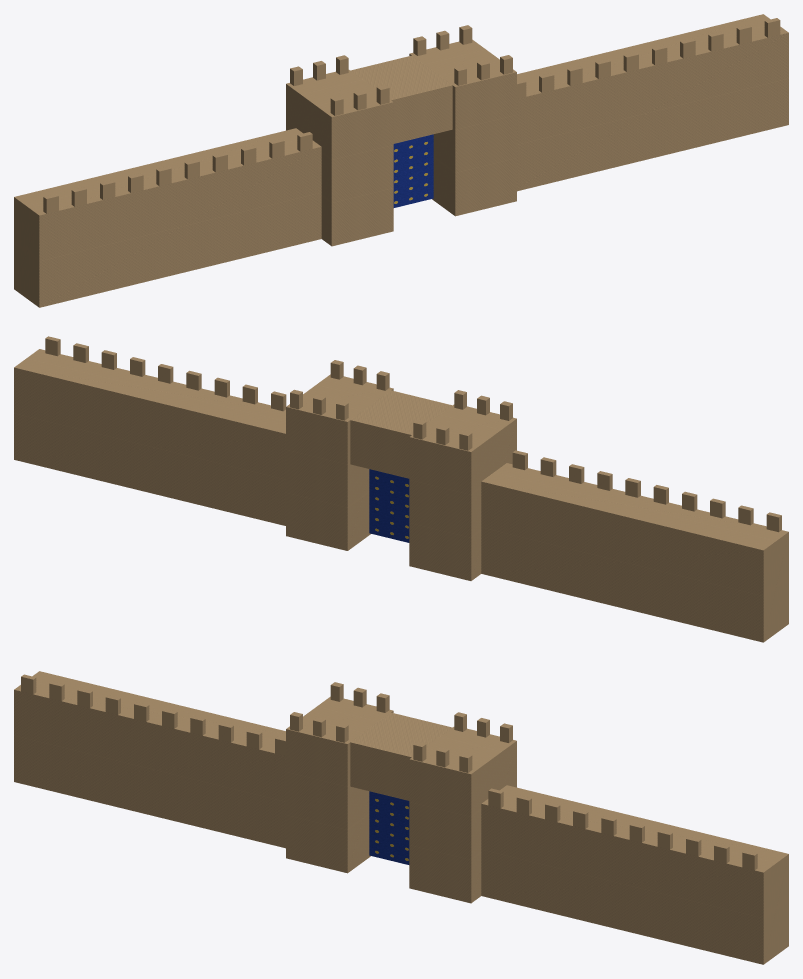
Rendered from city_wall_gate.obj.
The picture shows the model from 3 angles, top to bottom: view 1: azimuth 30°, elevation 25°; view 2: azimuth 150°, elevation 25°; view 3: azimuth 330°, elevation 25°; orthographic projection.
Bounding box in the file's own units: 42.5 × 7.8 × 4.5.
Materials: 2 (2 with a texture image).
